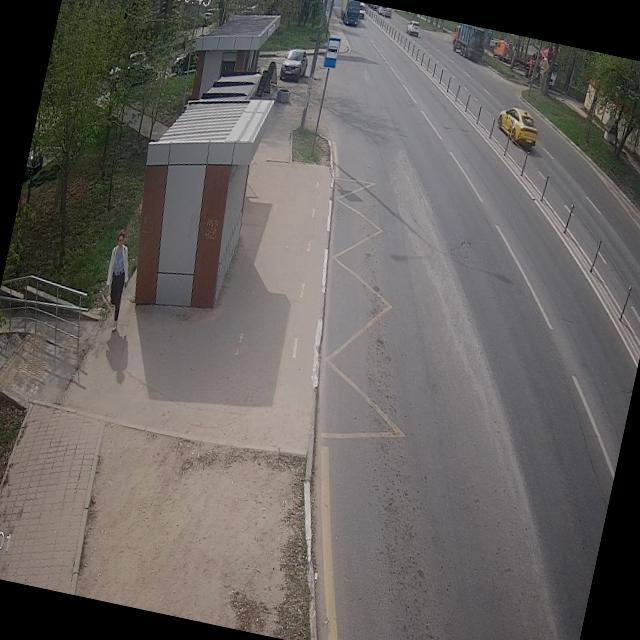person: (94, 228, 138, 334)
